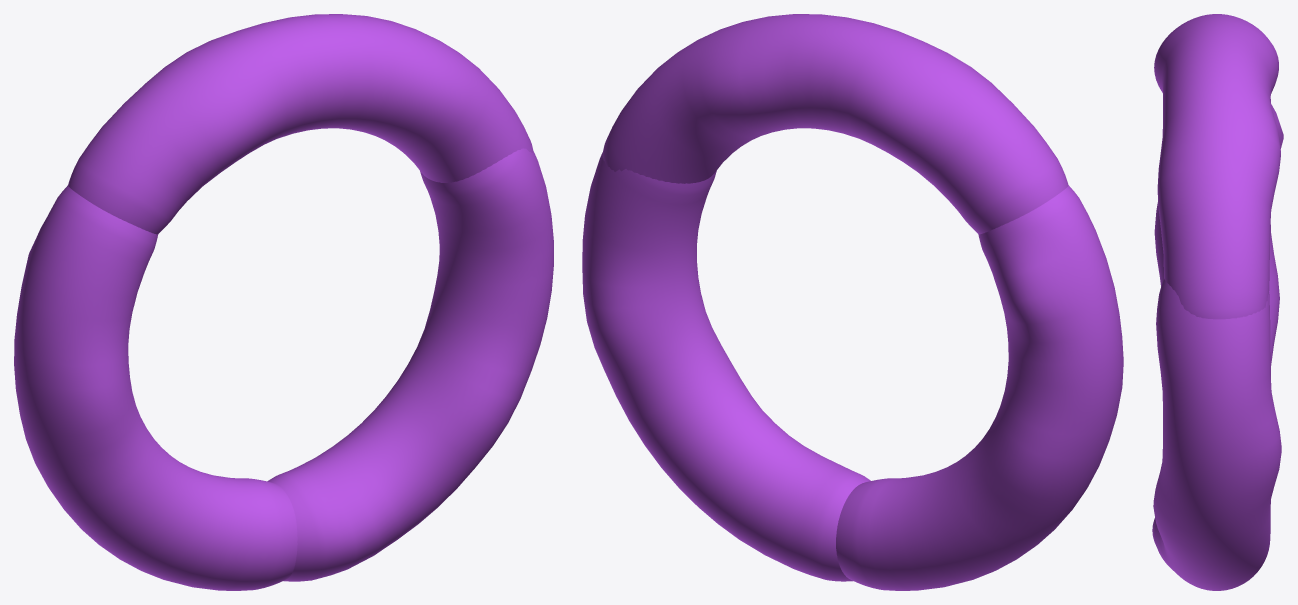
File: Ring Test 8_mid forming.fbx
The picture shows the model from 3 angles, left to right: view 1: azimuth 30°, elevation 25°; view 2: azimuth 150°, elevation 25°; view 3: azimuth 270°, elevation 25°; orthographic projection. The views are drawn at different scales.
Parts seen in each view (by area): view 1: 1 Ring, 3 Ring, 2 Ring; view 2: 1 Ring, 3 Ring, 2 Ring; view 3: 3 Ring, 2 Ring, 1 Ring.
Part boxes in pixels (left/top/right/bottom): 1 Ring: left=14, top=185, right=297, bottom=590; 3 Ring: left=68, top=14, right=533, bottom=234; 2 Ring: left=267, top=148, right=553, bottom=581; 1 Ring: left=836, top=185, right=1123, bottom=590; 3 Ring: left=602, top=14, right=1068, bottom=234; 2 Ring: left=582, top=152, right=870, bottom=581; 3 Ring: left=1154, top=14, right=1280, bottom=319; 2 Ring: left=1152, top=279, right=1281, bottom=590; 1 Ring: left=1154, top=104, right=1283, bottom=375.
Size of the model in its own units: 1057 by 1068 by 243.
